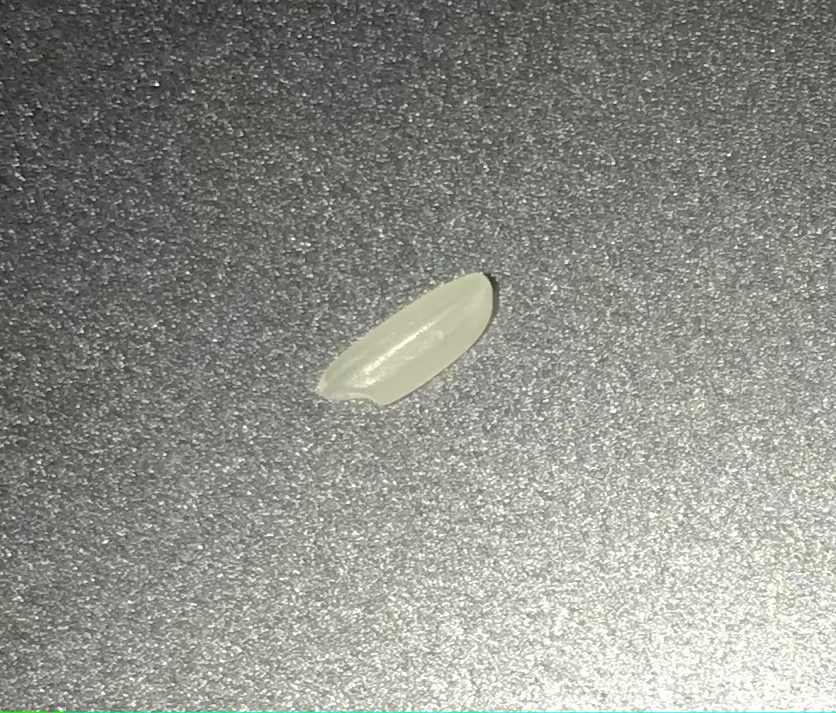Gao Long Lai: (305, 269, 500, 417)
